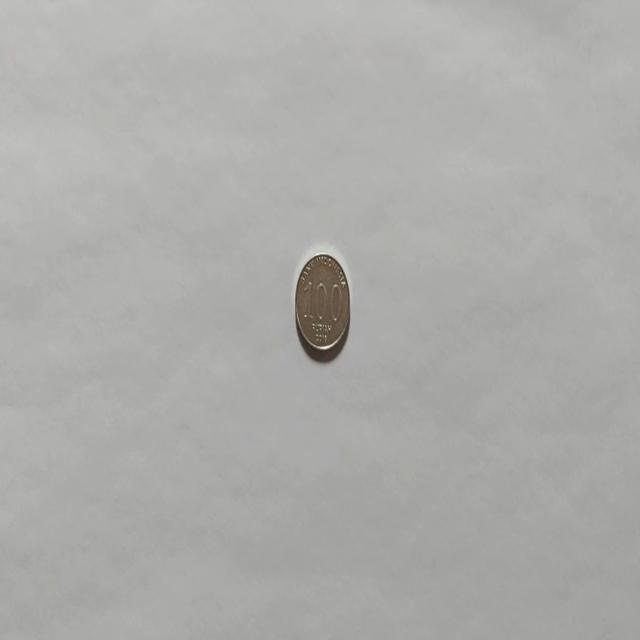seratus rupiah: (294, 250, 351, 356)
